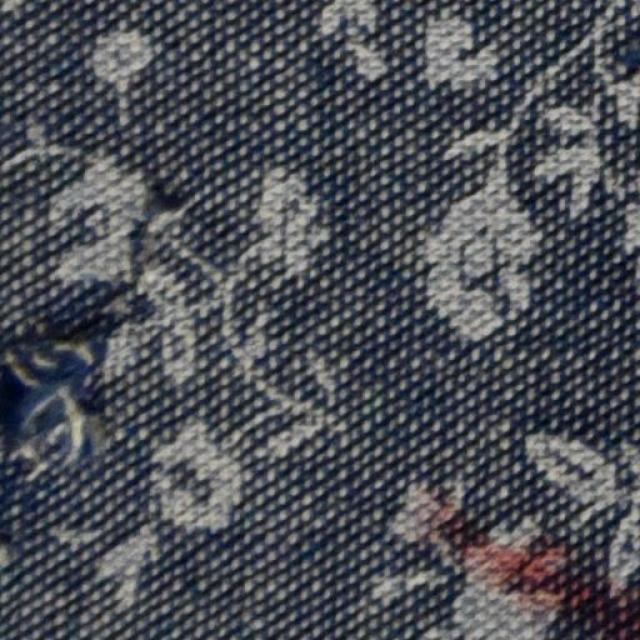Hole: (0, 306, 123, 511)
Snag: (131, 193, 189, 260)
Stain: (409, 507, 639, 639)
